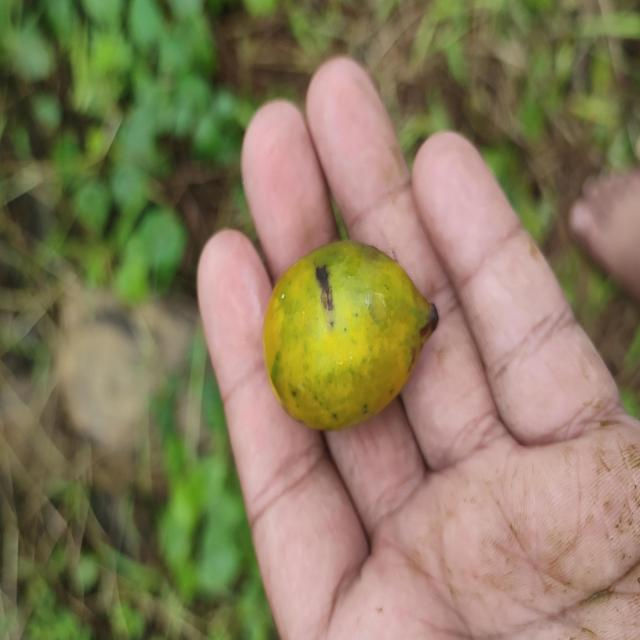good: (262, 240, 439, 434)
